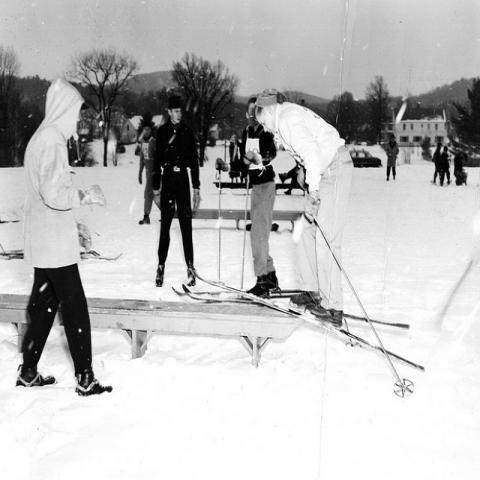car: (350, 149, 381, 168)
